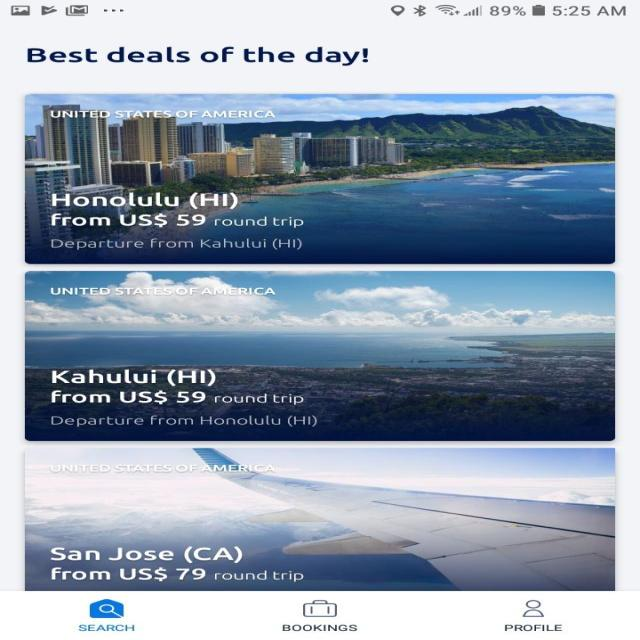Icon: (88, 598, 124, 618), (302, 599, 337, 616), (522, 599, 544, 617)
Image: (24, 270, 614, 441), (25, 94, 615, 264), (24, 447, 614, 591)
Text: (50, 546, 304, 582), (51, 192, 304, 228), (50, 369, 304, 404), (26, 46, 368, 66), (50, 415, 318, 427), (50, 238, 302, 250), (49, 110, 276, 118), (49, 287, 276, 295), (49, 464, 276, 472), (282, 624, 358, 631), (504, 624, 562, 631), (78, 624, 134, 631)
